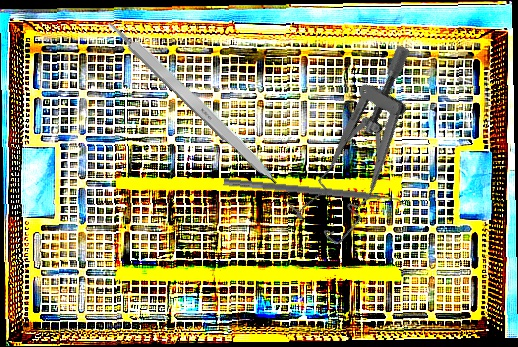Scalpel Handle: (103, 13, 285, 189)
Spatula Surgical: (222, 178, 407, 210)
Speculum: (268, 40, 466, 252)
